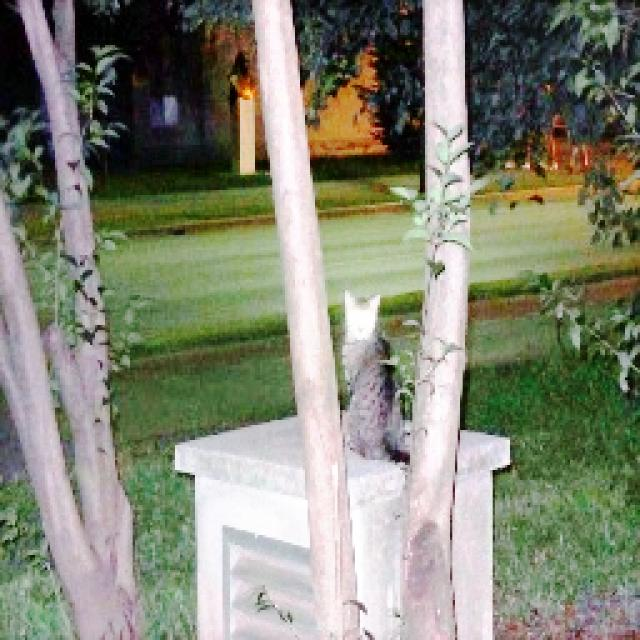cat: (311, 263, 445, 487)
